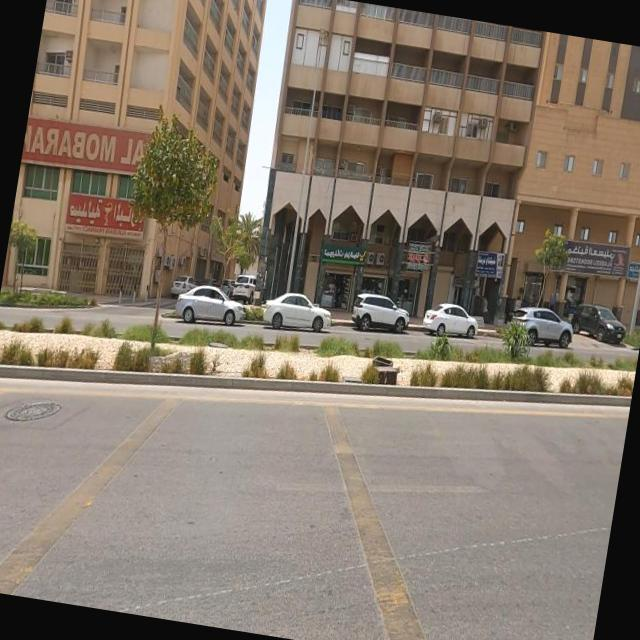debris: (18, 84, 212, 211)
